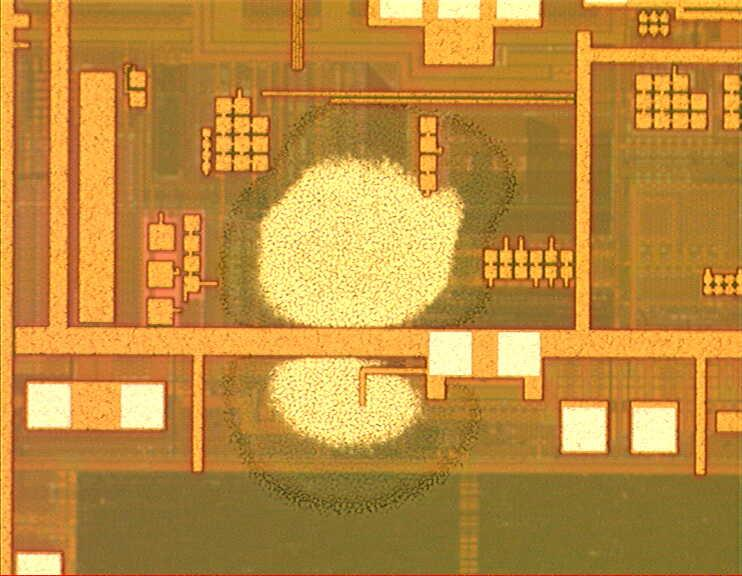BLOCK ETCH: (207, 81, 520, 532)
